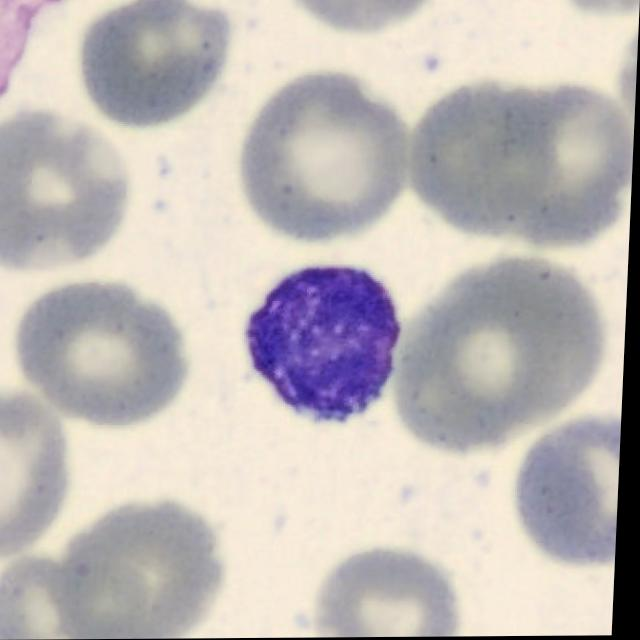Linfocito: (247, 261, 406, 422)
